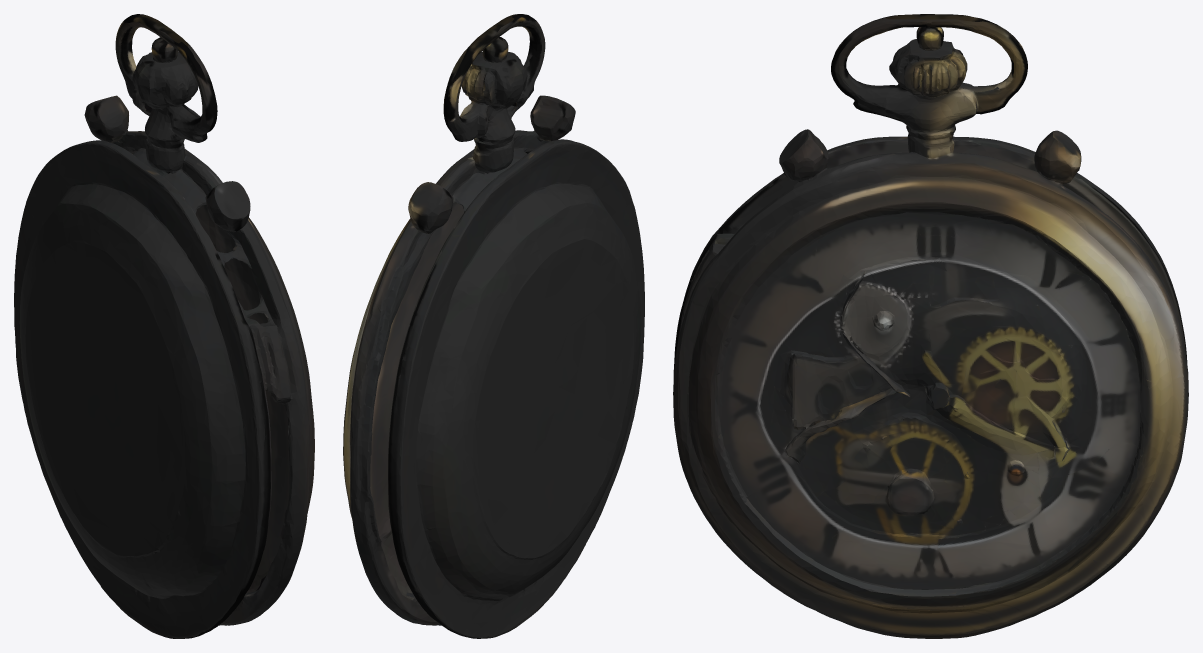
The picture shows the model from 3 angles, left to right: view 1: azimuth 30°, elevation 25°; view 2: azimuth 150°, elevation 25°; view 3: azimuth 270°, elevation 25°; orthographic projection. The views are drawn at different scales.
Visible parts, largest first — view 1: world; view 2: world; view 3: world.
Boxes of the visible parts, x1,y1,x2,y2 form: world: (14, 14, 314, 638); world: (343, 14, 644, 638); world: (673, 14, 1188, 638).
Bounding box in the file's own units: 0.2282 × 1 × 0.7638.
Materials: 1 (1 with a texture image).
